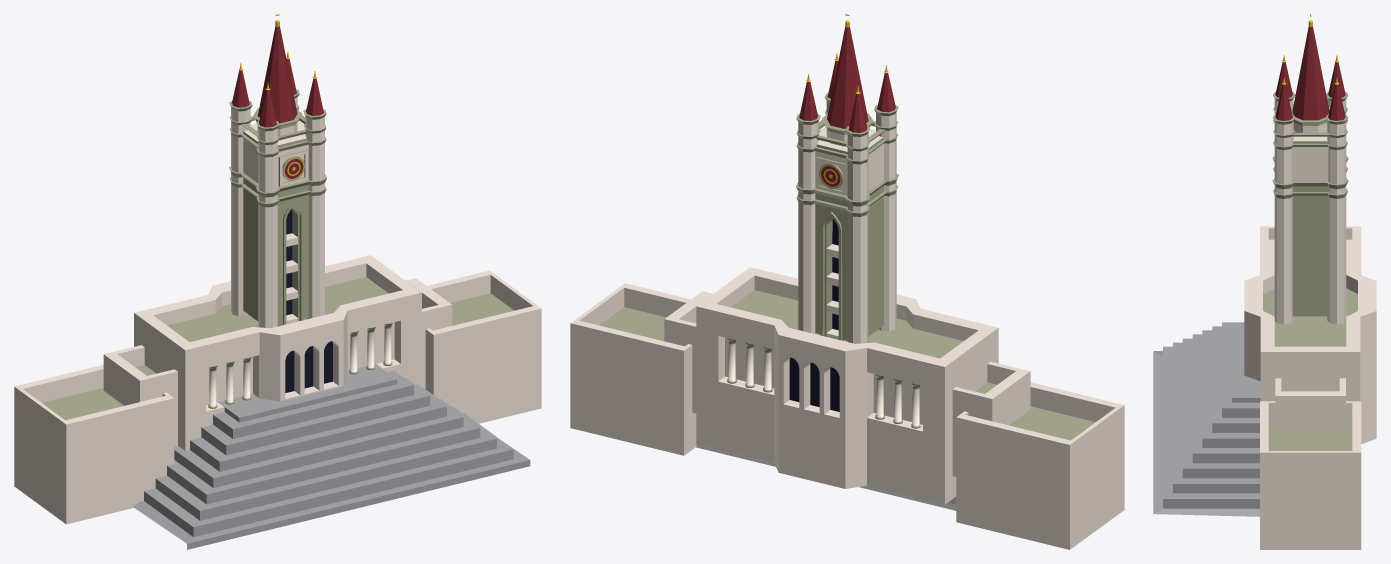
File: Museum.fbx
3 renders of one model, left to right at view 1: azimuth 30°, elevation 25°; view 2: azimuth 150°, elevation 25°; view 3: azimuth 270°, elevation 25°, orthographic. The views are drawn at different scales.
Visible parts, largest first — view 1: Cube.224; view 2: Cube.224; view 3: Cube.224.
Boxes of the visible parts, x1,y1,x2,y2 form: Cube.224: (14,14,541,549); Cube.224: (570,14,1124,549); Cube.224: (1153,14,1376,549).
Bounding box in the file's own units: 305 × 266 × 127.
